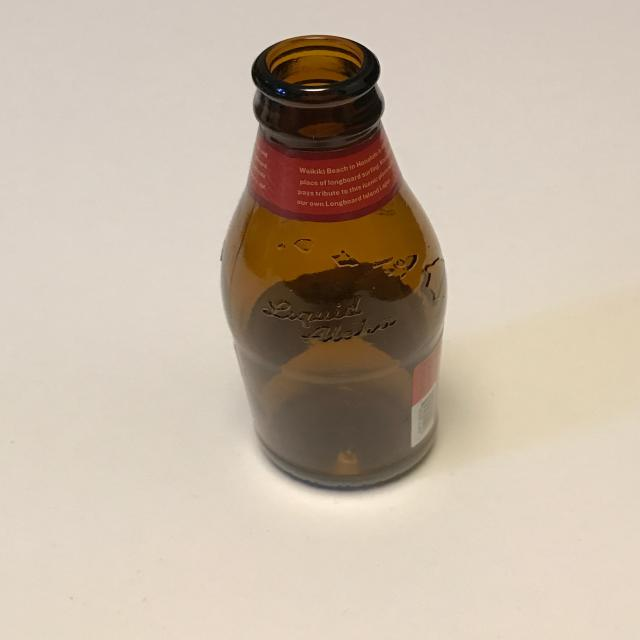glass: (218, 33, 448, 490)
